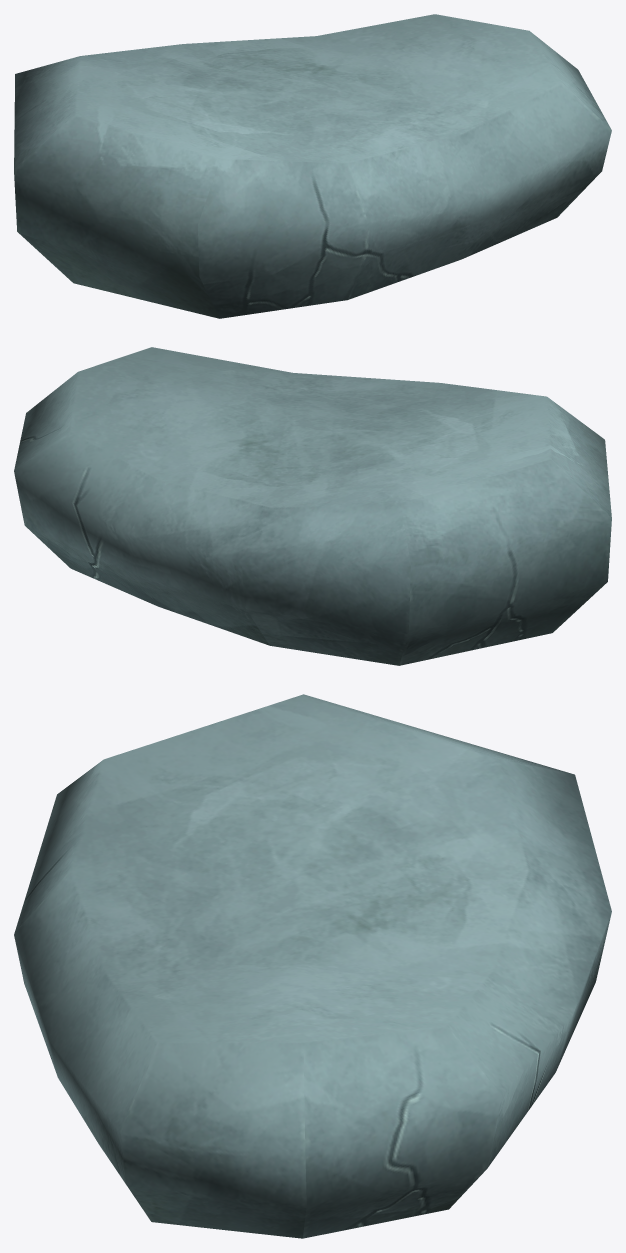
File: Rock 6.fbx
3 views of the same model, one above another, from view 1: azimuth 30°, elevation 25°; view 2: azimuth 150°, elevation 25°; view 3: azimuth 270°, elevation 25° (orthographic). The views are drawn at different scales.
Visible parts, largest first — view 1: pPlane3; view 2: pPlane3; view 3: pPlane3.
Boxes of the visible parts, left/top/right/bottom form: pPlane3: left=14, top=14, right=611, bottom=318; pPlane3: left=14, top=347, right=611, bottom=665; pPlane3: left=14, top=694, right=611, bottom=1238.
Bounding box in the file's own units: 7.16 × 2.02 × 4.69.
